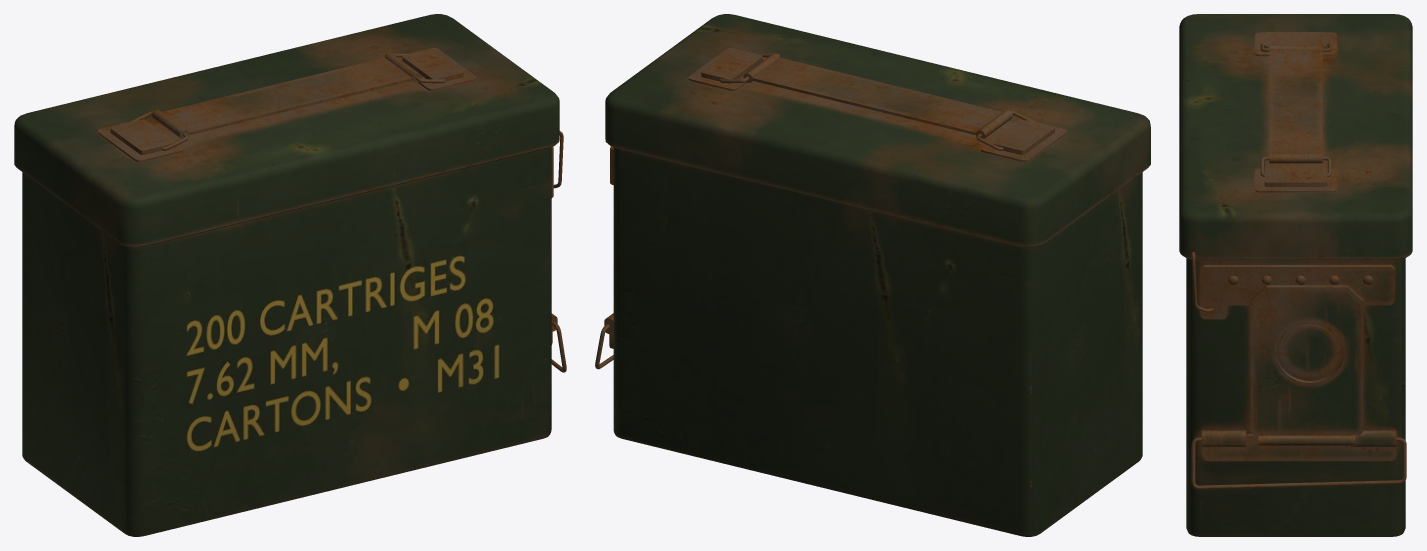
File: ammo-box_final.glb
3 views of the same model, side by side, from view 1: azimuth 30°, elevation 25°; view 2: azimuth 150°, elevation 25°; view 3: azimuth 270°, elevation 25° (orthographic). The views are drawn at different scales.
Parts seen in each view (by area): view 1: SM_AmmoBox_Body, SM_AmmoBox_Lid, SM_AmmoBox_HandleStrap, SM_AmmoBox_HandleClips; view 2: SM_AmmoBox_Body, SM_AmmoBox_Lid, SM_AmmoBox_HandleStrap, SM_AmmoBox_HandleClips; view 3: SM_AmmoBox_Lid, SM_AmmoBox_Body, SM_AmmoBox_LatchLever, SM_AmmoBox_HandleStrap, SM_AmmoBox_HingeBand, SM_AmmoBox_LatchHinge, SM_AmmoBox_HandleClips, SM_AmmoBox_Seal, SM_AmmoBox_LatchBail, SM_AmmoBox_HandleWires, SM_AmmoBox_LidWire.
Boxes of the visible parts, x1=… form: SM_AmmoBox_Body: x1=22, y1=147, x2=551, y2=536; SM_AmmoBox_Lid: x1=14, y1=14, x2=559, y2=247; SM_AmmoBox_HandleStrap: x1=152, y1=53, x2=421, y2=138; SM_AmmoBox_HandleClips: x1=97, y1=48, x2=476, y2=162; SM_AmmoBox_Body: x1=613, y1=147, x2=1142, y2=536; SM_AmmoBox_Lid: x1=605, y1=14, x2=1150, y2=247; SM_AmmoBox_HandleStrap: x1=743, y1=53, x2=1012, y2=138; SM_AmmoBox_HandleClips: x1=688, y1=48, x2=1067, y2=162; SM_AmmoBox_Lid: x1=1179, y1=14, x2=1412, y2=259; SM_AmmoBox_Body: x1=1186, y1=258, x2=1405, y2=536; SM_AmmoBox_LatchLever: x1=1250, y1=285, x2=1363, y2=445; SM_AmmoBox_HandleStrap: x1=1269, y1=45, x2=1322, y2=163; SM_AmmoBox_HingeBand: x1=1200, y1=265, x2=1394, y2=319; SM_AmmoBox_LatchHinge: x1=1202, y1=430, x2=1396, y2=460; SM_AmmoBox_HandleClips: x1=1255, y1=32, x2=1336, y2=192; SM_AmmoBox_Seal: x1=1279, y1=322, x2=1340, y2=377; SM_AmmoBox_LatchBail: x1=1191, y1=437, x2=1406, y2=489; SM_AmmoBox_HandleWires: x1=1260, y1=43, x2=1331, y2=177; SM_AmmoBox_LidWire: x1=1191, y1=252, x2=1214, y2=312.
Size of the model in its own units: 0.3142 by 0.2396 by 0.149.
Materials: 2 (2 with a texture image).
